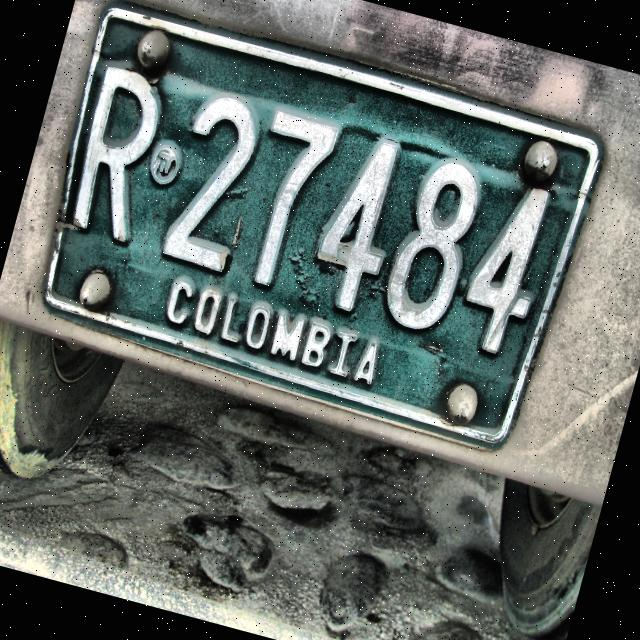plate: (39, 0, 605, 451)
